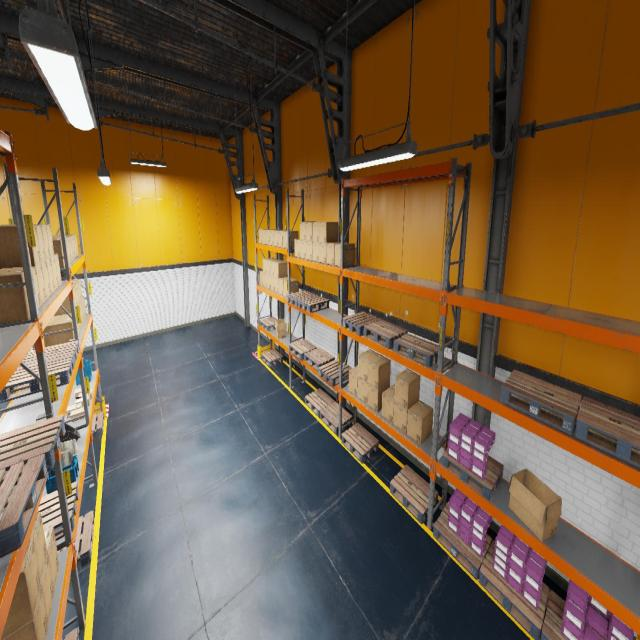box: (1, 539, 41, 639), (508, 469, 562, 541), (2, 584, 48, 639), (0, 225, 41, 269), (0, 266, 41, 308), (0, 225, 46, 262), (0, 270, 30, 324), (5, 225, 50, 260), (30, 512, 47, 582), (407, 400, 433, 445), (394, 368, 420, 409), (44, 527, 59, 591), (41, 553, 54, 624), (43, 318, 74, 347), (393, 400, 419, 434), (368, 354, 390, 390), (54, 286, 78, 316), (33, 224, 54, 257), (358, 349, 379, 382), (367, 382, 390, 412), (50, 314, 79, 336), (52, 235, 77, 258), (381, 384, 395, 424), (52, 236, 73, 262), (52, 235, 78, 256), (52, 236, 75, 259), (334, 243, 355, 267), (52, 237, 71, 263), (326, 242, 346, 265), (62, 279, 82, 301), (36, 263, 46, 305), (52, 238, 69, 262), (41, 260, 51, 298), (319, 222, 338, 242), (52, 239, 65, 268), (46, 258, 55, 294), (348, 366, 358, 396), (358, 377, 368, 404), (283, 230, 298, 248), (284, 278, 298, 297), (54, 253, 62, 286), (66, 402, 82, 418), (279, 277, 293, 295), (51, 256, 58, 289), (274, 319, 286, 338), (70, 407, 85, 422), (266, 229, 280, 245), (274, 261, 287, 278), (270, 260, 283, 276), (266, 259, 279, 275), (72, 281, 81, 304), (76, 393, 90, 407), (263, 258, 276, 273), (274, 230, 286, 246), (259, 228, 271, 244), (312, 222, 320, 242), (78, 389, 93, 399), (319, 242, 326, 263), (278, 231, 287, 247), (312, 242, 319, 262), (73, 283, 79, 306), (306, 222, 312, 241), (306, 241, 312, 260), (300, 222, 306, 240), (300, 240, 306, 258), (80, 302, 84, 326), (295, 239, 300, 257), (74, 388, 82, 399), (81, 299, 85, 321), (82, 296, 86, 318), (274, 278, 279, 294), (270, 230, 275, 245), (79, 306, 82, 330), (263, 272, 267, 288), (270, 276, 274, 291), (262, 229, 266, 244), (267, 274, 270, 290), (260, 270, 263, 286), (78, 324, 80, 336)
pallets: (478, 540, 550, 639), (500, 370, 582, 434), (0, 454, 47, 557), (0, 414, 66, 486), (574, 397, 640, 468), (433, 502, 492, 580), (0, 354, 75, 403), (540, 590, 607, 640), (442, 448, 503, 500), (390, 464, 438, 524), (37, 481, 79, 541), (58, 510, 94, 567), (19, 340, 79, 366), (341, 422, 379, 463), (394, 333, 438, 367), (363, 320, 408, 348), (320, 402, 352, 434), (342, 312, 382, 336), (318, 358, 352, 386), (305, 388, 334, 417), (304, 347, 334, 372), (289, 339, 317, 360), (298, 295, 329, 313), (286, 290, 316, 306), (261, 349, 283, 367), (92, 411, 104, 436), (260, 316, 276, 332), (62, 628, 79, 640)
